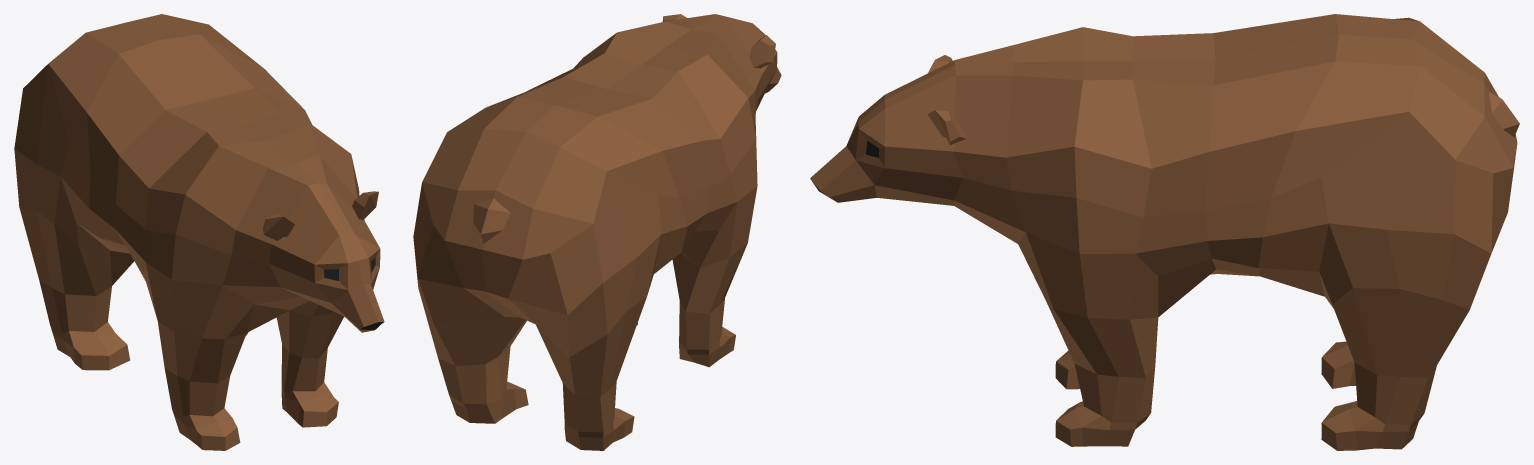
The model's file is bear_brown.glb.
3 renders of one model, left to right at view 1: azimuth 30°, elevation 25°; view 2: azimuth 150°, elevation 25°; view 3: azimuth 270°, elevation 25°, orthographic. The views are drawn at different scales.
Visible parts, largest first — view 1: bear_brown; view 2: bear_brown; view 3: bear_brown.
Part boxes in pixels (x1,y1,x2,y2): bear_brown: (14,14,384,450); bear_brown: (413,14,781,450); bear_brown: (810,14,1519,450).
Size of the model in its own units: 1.42 by 2.07 by 3.57.
Materials: 1 (1 with a texture image).
